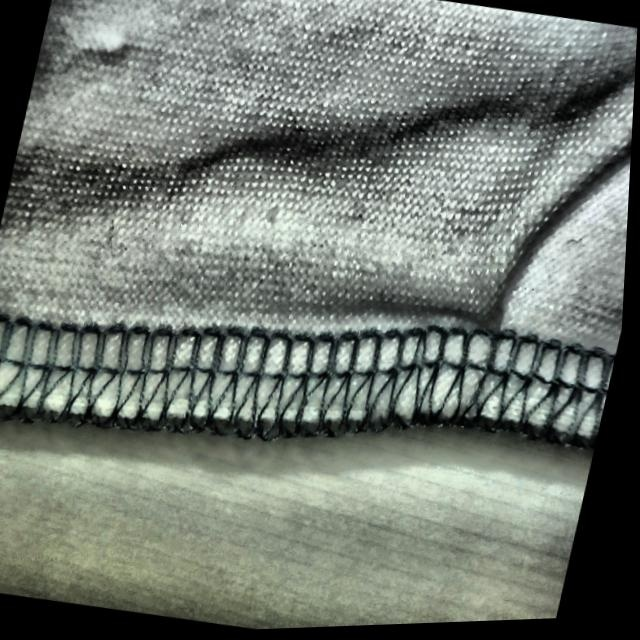seam: (335, 188, 583, 496)
